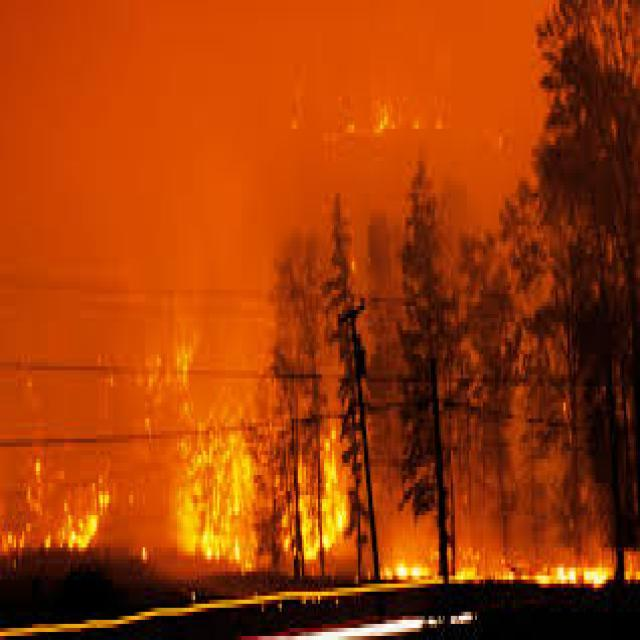Fire: (0, 72, 640, 606)
